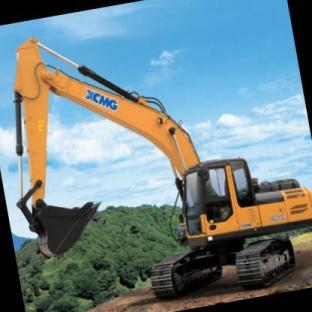ExcavationMachinery: (6, 31, 312, 294)
